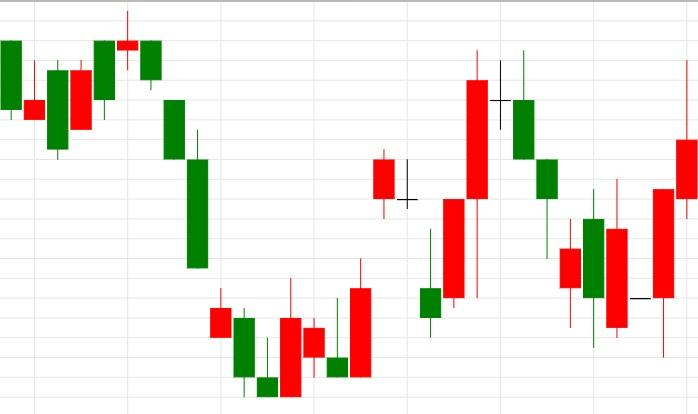bullish_engulfing_rise: (117, 11, 302, 398)
evening_star_fall: (419, 50, 536, 338)
inverse_hammer_rise: (117, 11, 279, 398)
three_black_crows_fall: (47, 11, 209, 269)
